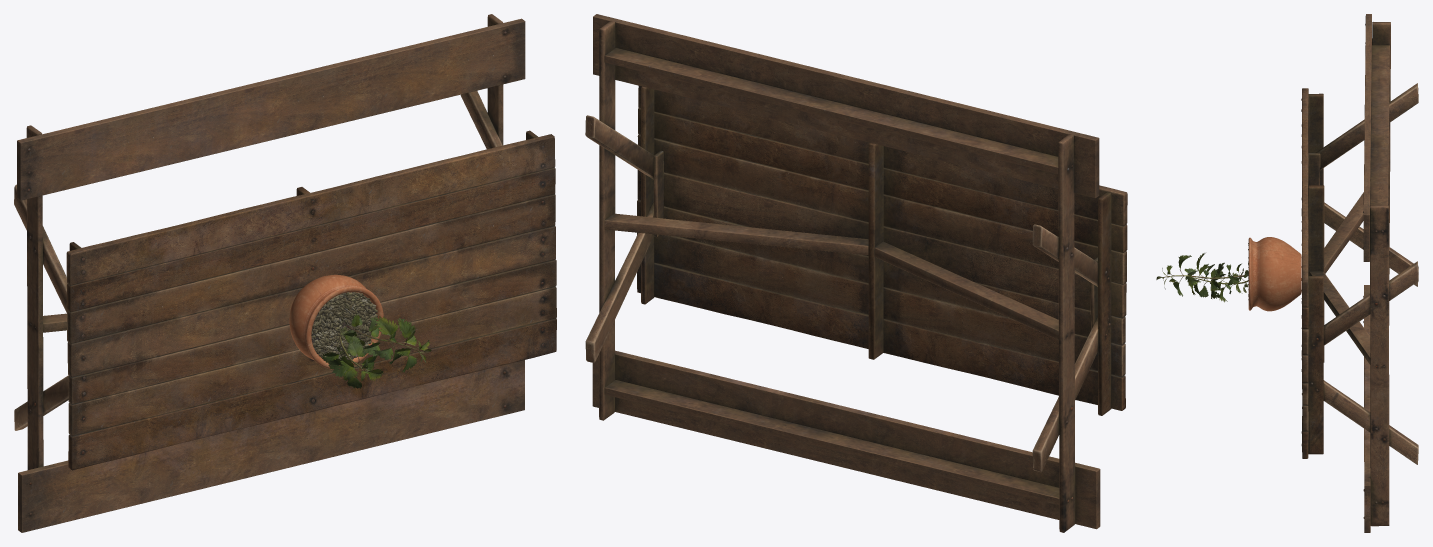
The model's file is plant_on_table.obj.
3 renders of one model, left to right at view 1: azimuth 30°, elevation 25°; view 2: azimuth 150°, elevation 25°; view 3: azimuth 270°, elevation 25°, orthographic. The views are drawn at different scales.
Parts seen in each view (by area): view 1: wooden_picnic_table, potted_plant_02_pot, potted_plant_02_dirt, nettle_plant_tall_a_LOD0, nettle_plant_medium_b_LOD0; view 2: wooden_picnic_table; view 3: wooden_picnic_table, potted_plant_02_pot, nettle_plant_tall_a_LOD0, nettle_plant_medium_b_LOD0.
Boxes of the visible parts, box(x1,y1,x2,y2) form: wooden_picnic_table: box(14, 14, 556, 532); potted_plant_02_pot: box(289, 274, 383, 369); potted_plant_02_dirt: box(311, 292, 377, 361); nettle_plant_tall_a_LOD0: box(339, 313, 431, 372); nettle_plant_medium_b_LOD0: box(321, 329, 383, 388); wooden_picnic_table: box(585, 14, 1127, 532); wooden_picnic_table: box(1301, 14, 1418, 532); potted_plant_02_pot: box(1248, 237, 1301, 311); nettle_plant_tall_a_LOD0: box(1156, 253, 1248, 297); nettle_plant_medium_b_LOD0: box(1185, 264, 1248, 302).
Size of the model in its own units: 3.02 by 2.24 by 1.67.
5 materials, 5 textured.
